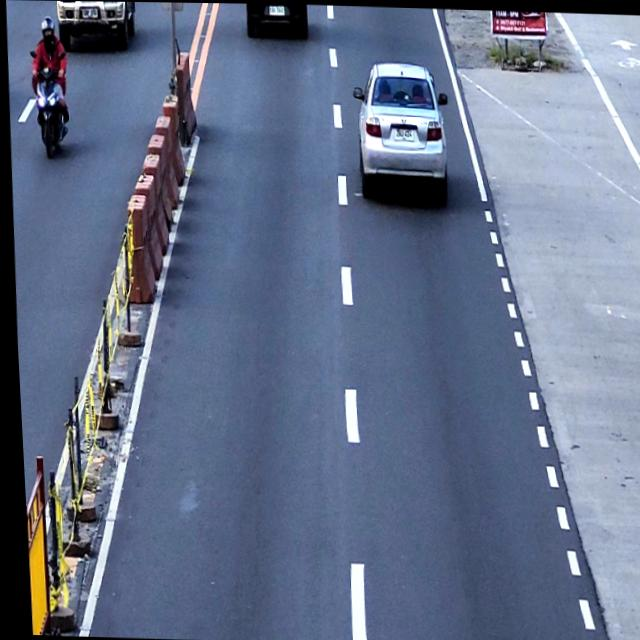Car: (348, 60, 453, 209), (54, 1, 136, 53), (243, 3, 309, 40)
License-Plate: (392, 127, 412, 139), (81, 7, 97, 18), (269, 5, 284, 13)
Motorcycle: (25, 46, 71, 161)
